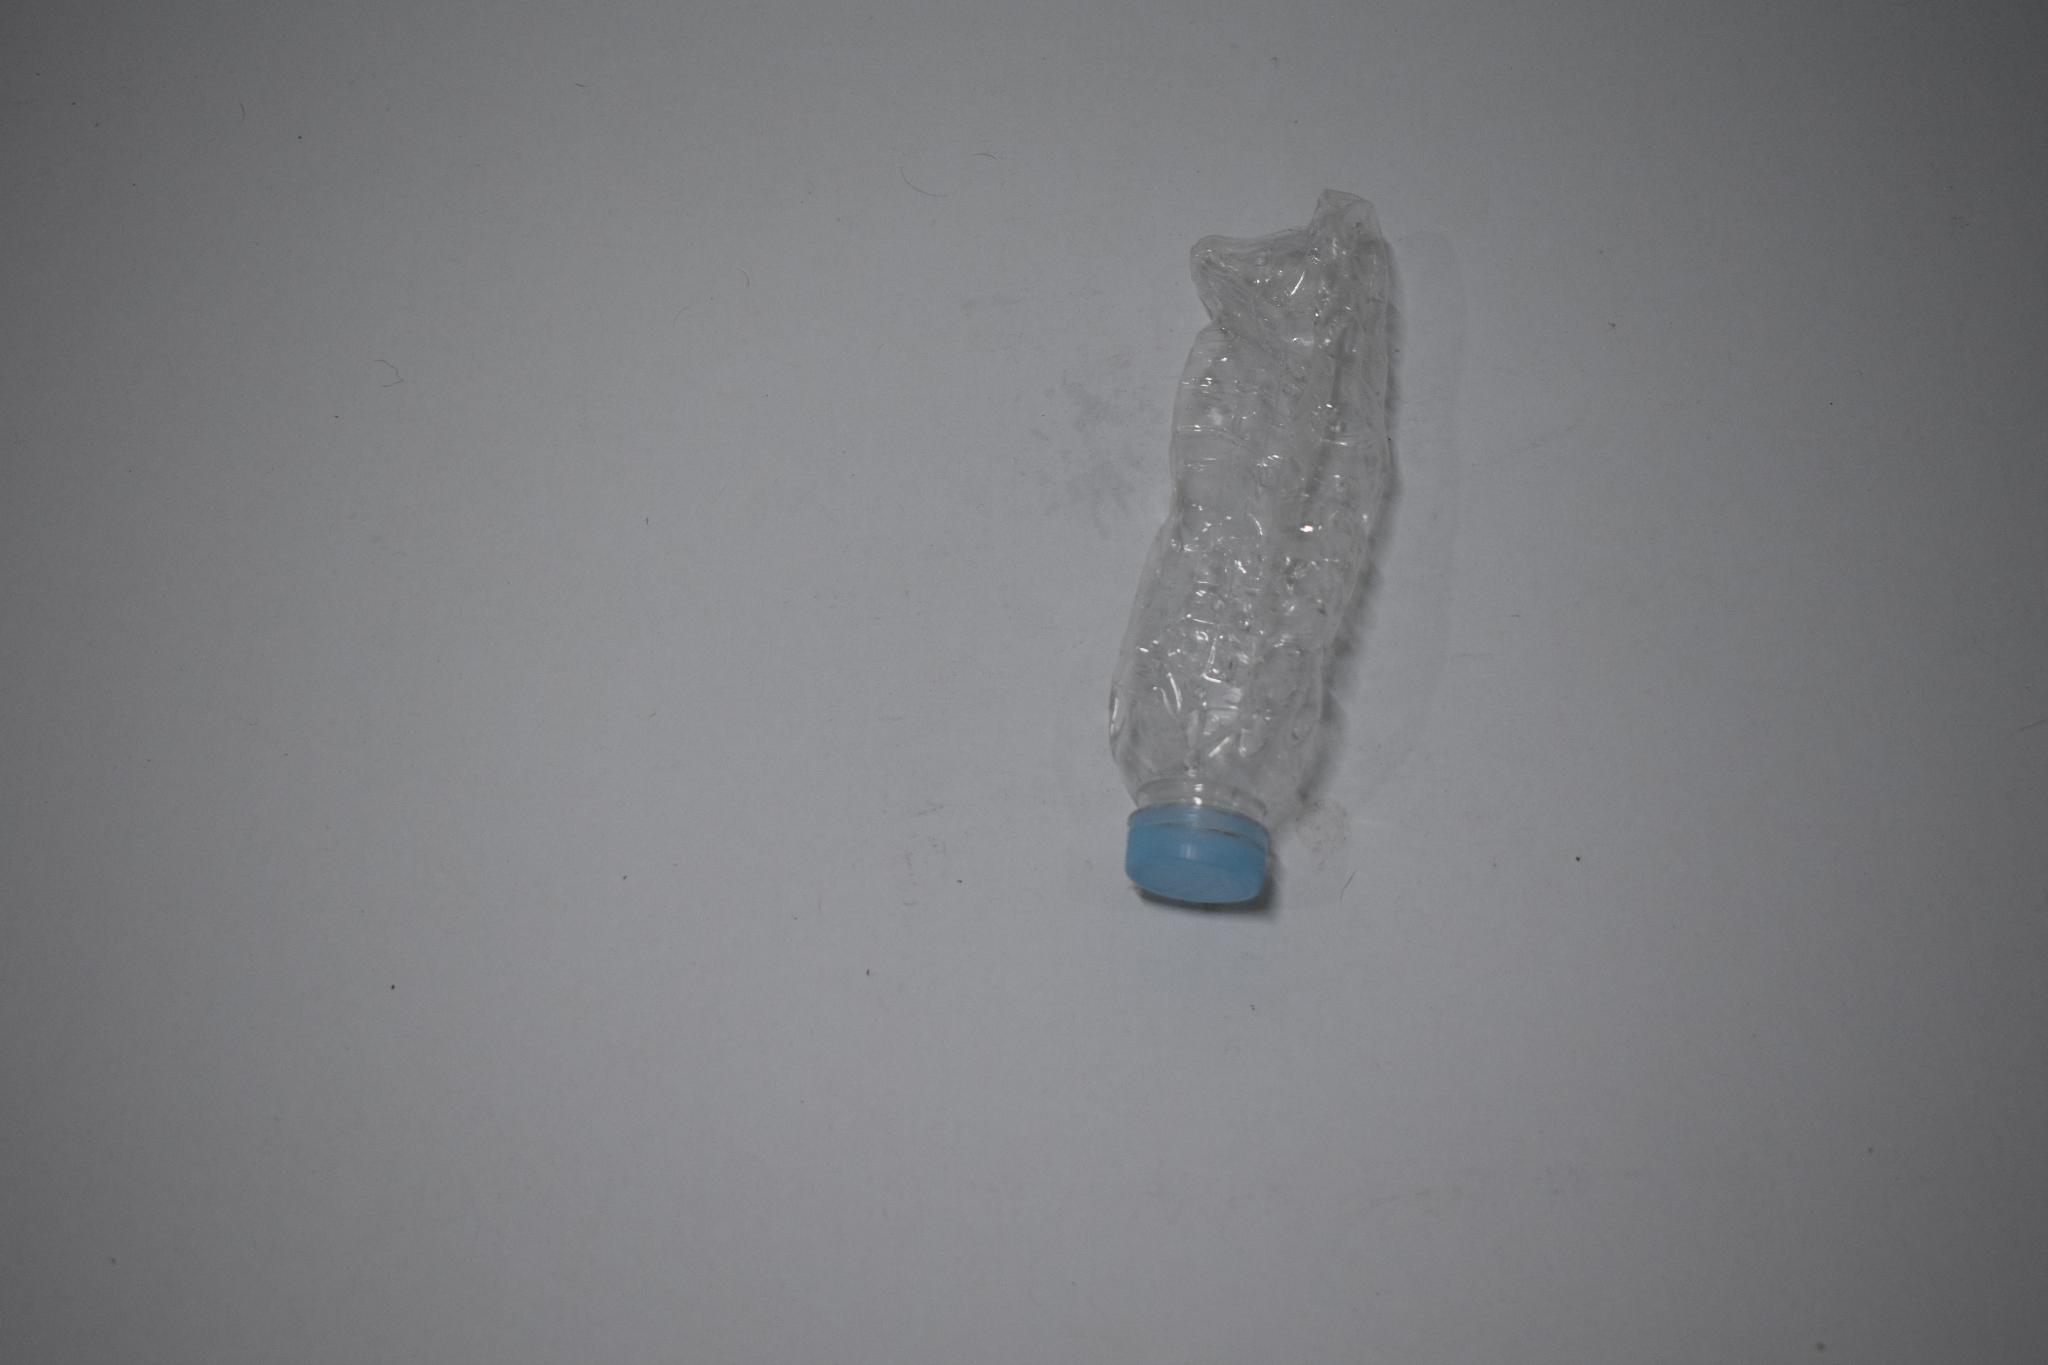bottle: (1094, 162, 1416, 930)
